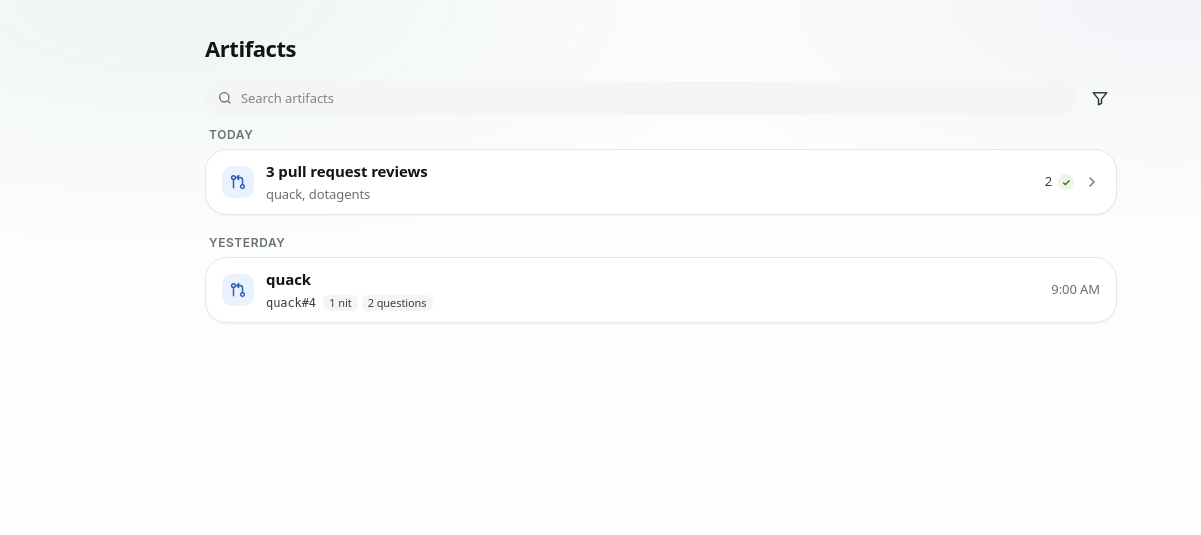
Scenario: a day with two or more reviews folds them into one row that counts approvals and opens to list them; a lone review stays a row
Expected: the picture named "2 approved" is shown, [1058,174,1074,190]
Click the button "3 pull request reviews quack, dotagents 2 ✓" at {"x": 238, "y": 182}, box [206,150,1116,214]
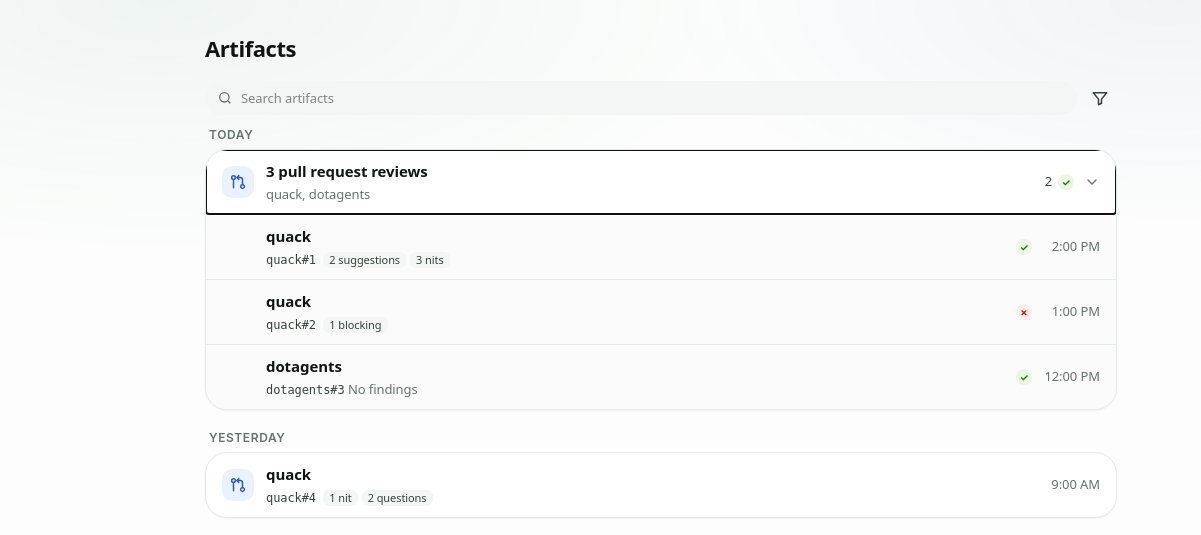
Expected: the link "quack quack#4 1 nit 2 questions 9:00 AM" is shown, [206,453,1116,517]
Result: the button "3 pull request reviews quack, dotagents 2 ✓" is expanded at [206,150,1116,214]
